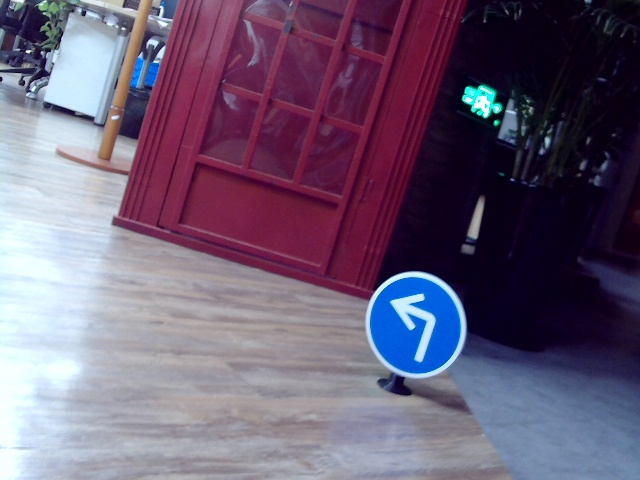turn_left: (389, 286, 438, 366)
